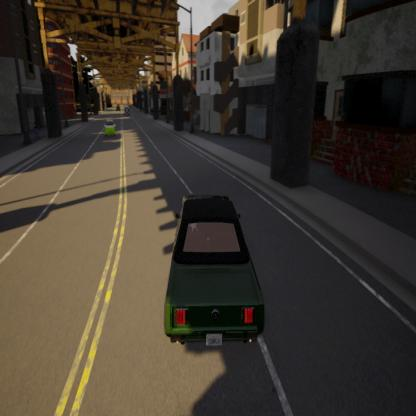Cars: (164, 193, 264, 348), (104, 119, 115, 135), (124, 106, 130, 117), (116, 104, 120, 113)
Pedestrian: (34, 122, 40, 140)
